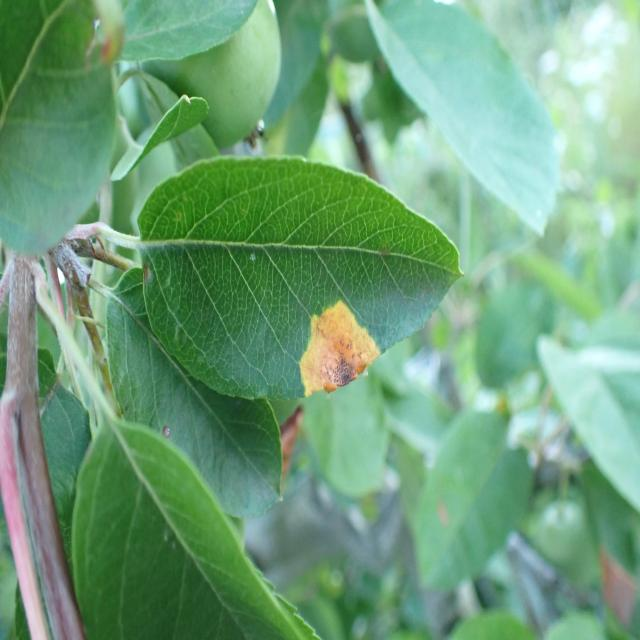Rust: (295, 272, 385, 444)
